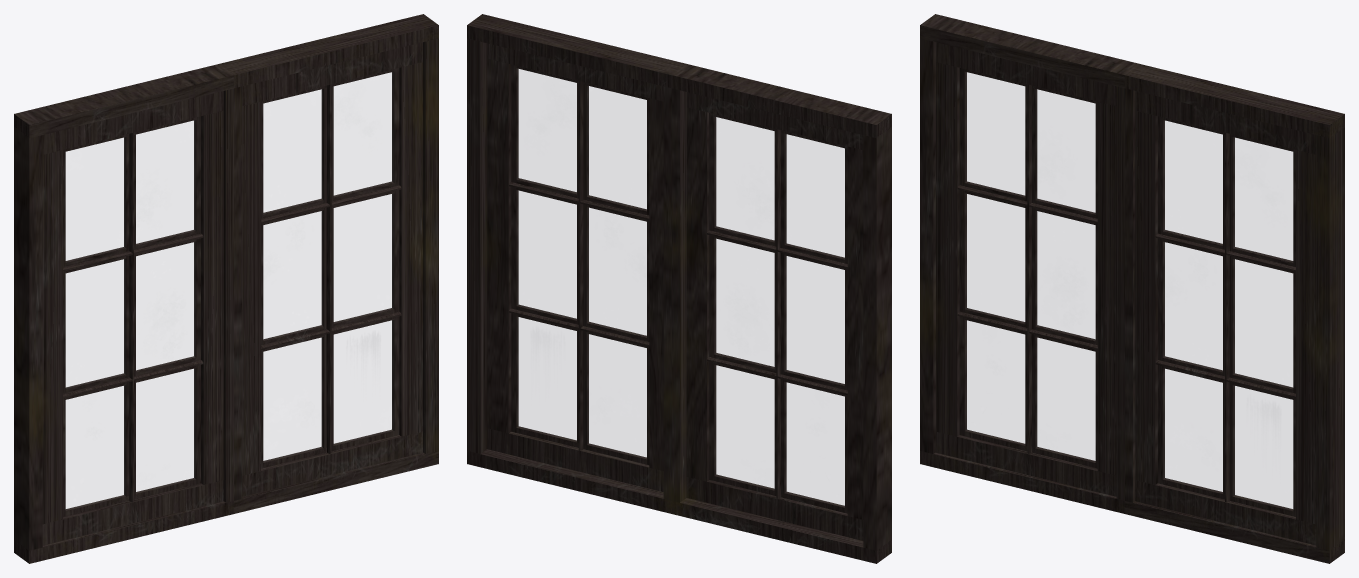
Rendered from window_1.glb.
The picture shows the model from 3 angles, left to right: view 1: azimuth 30°, elevation 25°; view 2: azimuth 150°, elevation 25°; view 3: azimuth 330°, elevation 25°; orthographic projection.
Visible parts, largest first — view 1: Object_3, Object_2; view 2: Object_3, Object_2; view 3: Object_3, Object_2.
Part boxes in pixels (x1=…): Object_3: x1=14, y1=14, x2=438, y2=563; Object_2: x1=66, y1=73, x2=391, y2=508; Object_3: x1=467, y1=14, x2=891, y2=563; Object_2: x1=518, y1=69, x2=844, y2=505; Object_3: x1=920, y1=14, x2=1344, y2=563; Object_2: x1=967, y1=73, x2=1292, y2=508.
Size of the model in its own units: 121 by 124 by 7.82.
2 materials, 2 textured.
